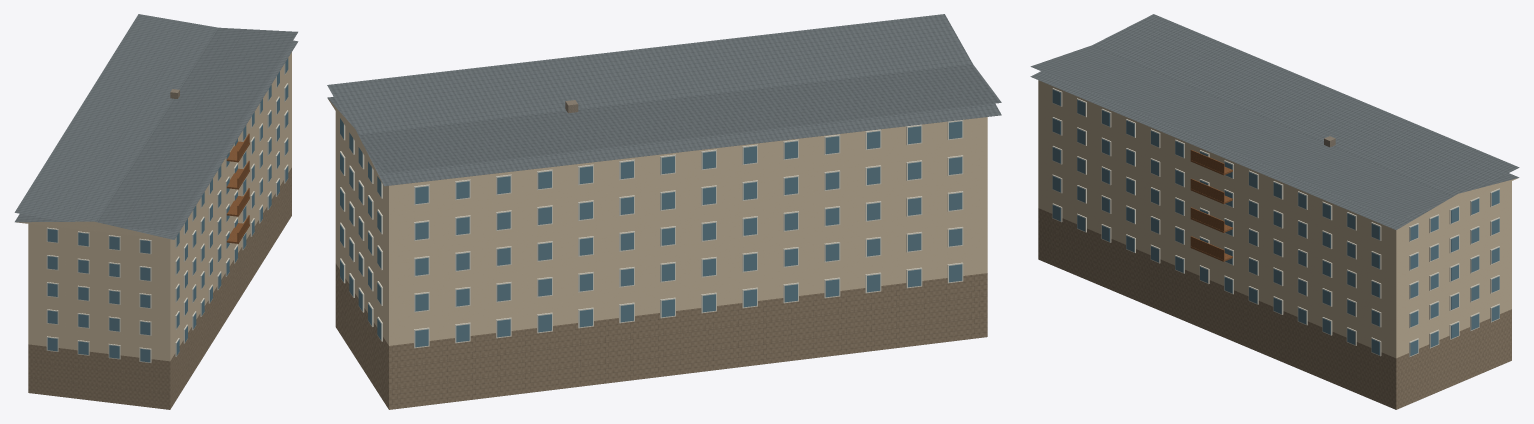
File: core_0027.gltf
3 views of the same model, side by side, from view 1: azimuth 30°, elevation 25°; view 2: azimuth 150°, elevation 25°; view 3: azimuth 270°, elevation 25° (orthographic). The views are drawn at different scales.
Visible parts, largest first — view 1: core_0027; view 2: core_0027; view 3: core_0027.
Boxes of the visible parts, box(x1,y1,x2,y2) form: core_0027: box(14, 14, 298, 409); core_0027: box(327, 14, 1001, 409); core_0027: box(1030, 14, 1519, 409).
Bounding box in the file's own units: 43.72 × 19.25 × 43.88.
7 materials, 7 textured.
